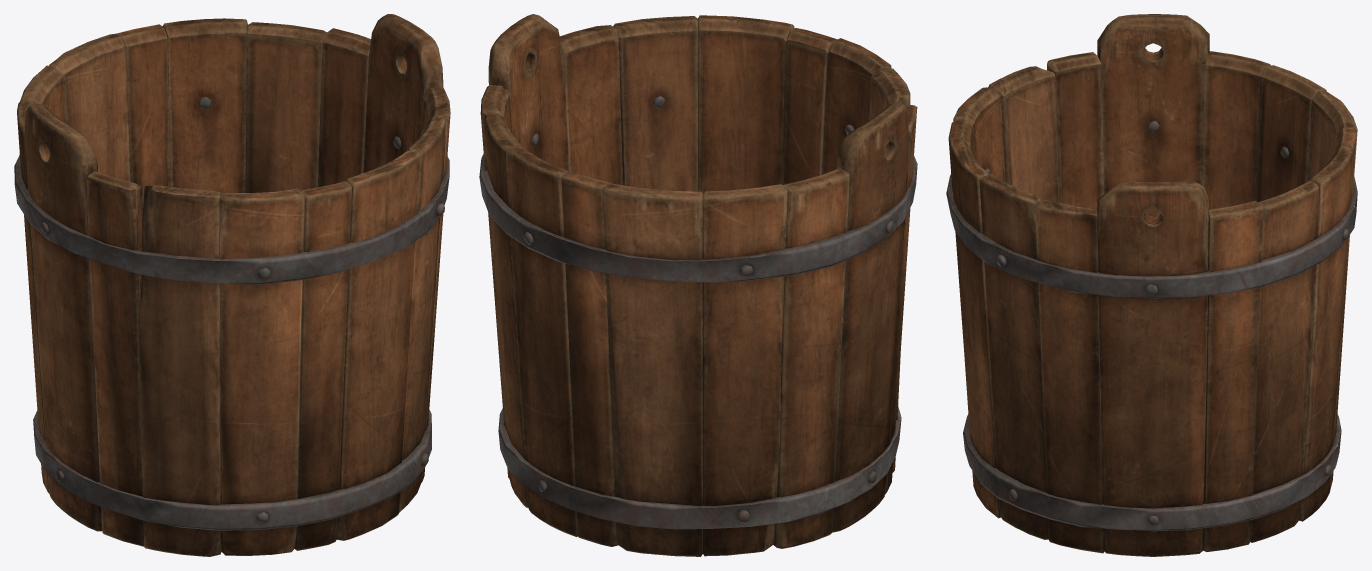
Rendered from wooden_bucket_01.glb.
3 views of the same model, side by side, from view 1: azimuth 30°, elevation 25°; view 2: azimuth 150°, elevation 25°; view 3: azimuth 270°, elevation 25° (orthographic). The views are drawn at different scales.
Parts seen in each view (by area): view 1: wooden_bucket_01; view 2: wooden_bucket_01; view 3: wooden_bucket_01.
Part boxes in pixels (x1,y1,x2,y2): wooden_bucket_01: (14,14,450,556); wooden_bucket_01: (479,14,917,556); wooden_bucket_01: (946,14,1357,556).
Bounding box in the file's own units: 0.347 × 0.3493 × 0.3419.
1 material, 1 textured.
